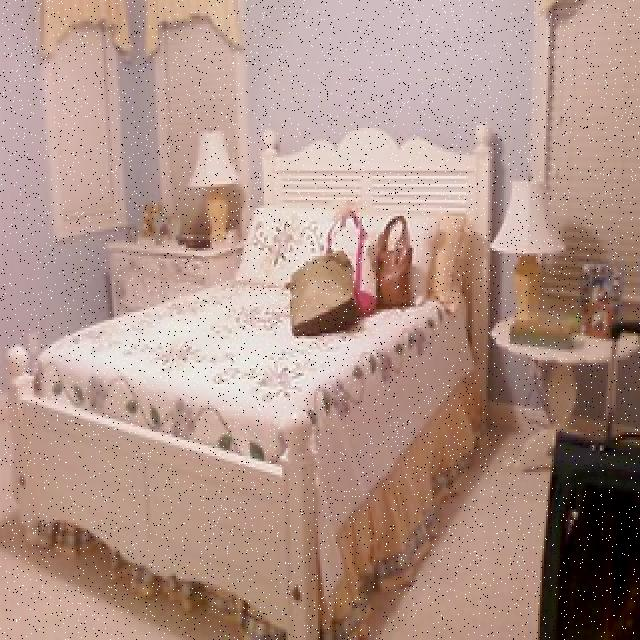bed: (4, 132, 497, 594)
